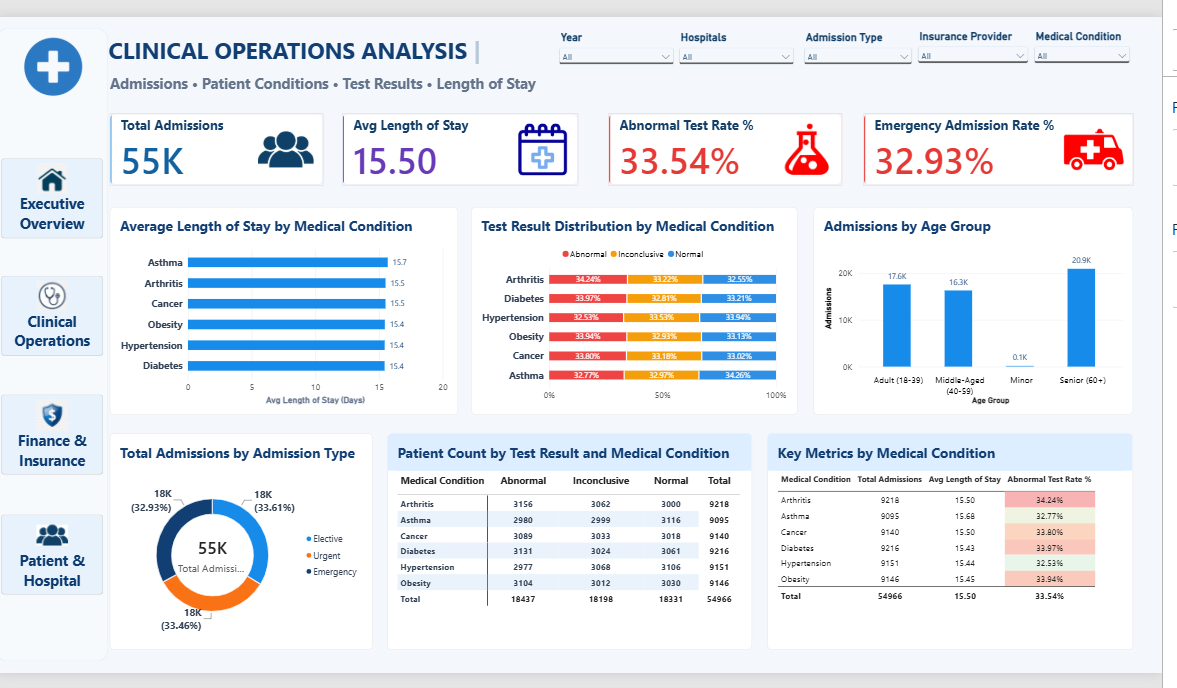

What the dashboard file says about the page in this screenshot:
{"tool":"powerbi","page":{"name":"Clinical Operations","canvas":[1920,1080],"ordinal":1},"visuals":[{"type":"textbox","box":[184.6,29,622.5,54.3],"z":0},{"type":"textbox","box":[186.4,92.3,705.8,41.6],"z":1000},{"type":"clusteredBarChart","title":"Average Length of Stay by Medical Condition","fields":{"Category":["Dim_MedicalCondition.Medical Condition"],"Y":["Fact_Admissions.Avg Length of Stay"]},"box":[186.4,313.1,573.7,342],"z":2000},{"type":"pivotTable","title":"Patient Count by Test Result and Medical Condition","fields":{"Columns":["Fact_Admissions.Test Results"],"Rows":["Dim_MedicalCondition.Medical Condition"],"Values":["Fact_Admissions.Total Admissions"]},"box":[644.2,685.9,600.8,356.5],"z":3000},{"type":"donutChart","title":"Total Admissions by Admission Type","fields":{"Category":["Fact_Admissions.Admission Type"],"Y":["Fact_Admissions.Total Admissions"]},"box":[186.4,685.9,432.5,356.5],"z":4000},{"type":"slicer","fields":{"Values":["Dim_Date.Year"]},"box":[921.1,21.7,199.1,74.2],"z":5000},{"type":"cardVisual","fields":{"Data":["Fact_Admissions.Total Admissions"]},"box":[186.4,159.3,352.9,119.4],"z":6000},{"type":"cardVisual","fields":{"Data":["Fact_Admissions.Avg Length of Stay"]},"box":[570,159.3,389.1,119.4],"z":7000},{"type":"cardVisual","fields":{"Data":["Fact_Admissions.Abnormal Test Rate %"]},"box":[1008,159.3,385.5,119.4],"z":8000},{"type":"cardVisual","fields":{"Data":["Fact_Admissions.Emergency Admission Rate %"]},"box":[1427.8,159.3,445.2,119.4],"z":9000},{"type":"slicer","fields":{"Values":["Fact_Admissions.Admission Type"]},"box":[1324.7,21.7,188.2,56.1],"z":10000},{"type":"slicer","fields":{"Values":["Fact_Admissions.Hospitals"]},"box":[1120.2,21.7,199.1,74.2],"z":11000},{"type":"slicer","fields":{"Values":["Dim_Insurance.Insurance Provider"]},"box":[1512.9,19.9,191.8,57.9],"z":12000},{"type":"slicer","fields":{"Values":["Dim_MedicalCondition.Medical Condition"]},"box":[1704.7,19.9,168.3,57.9],"z":13000},{"type":"hundredPercentStackedBarChart","title":"Test Result Distribution by Medical Condition","fields":{"Category":["Dim_MedicalCondition.Medical Condition"],"Series":["Fact_Admissions.Test Results"],"Y":["Fact_Admissions.Total Admissions"]},"box":[781.8,313.1,537.5,342],"z":14000},{"type":"clusteredColumnChart","title":"Admissions by Age Group","fields":{"Category":["Fact_Admissions.   AgeGroup"],"Y":["Fact_Admissions.Total Admissions"]},"box":[1346.4,313.1,526.6,342],"z":15000},{"type":"tableEx","title":"Key Metrics by Medical Condition","fields":{"Values":["Dim_MedicalCondition.Medical Condition","Fact_Admissions.Total Admissions","Fact_Admissions.Avg Length of Stay","Fact_Admissions.Abnormal Test Rate %"]},"box":[1270.4,685.9,602.6,356.5],"z":16000},{"type":"shape","box":[0,18.1,184.6,1042.4],"z":17000},{"type":"actionButton","box":[9,233.4,168.3,132.1],"z":18000},{"type":"actionButton","box":[9,427.1,168.3,132.1],"z":19000},{"type":"actionButton","box":[9,620.7,168.3,132.1],"z":20000},{"type":"image","box":[23.5,25.3,143,114],"z":21000},{"type":"actionButton","box":[7.2,819.8,168.3,132.1],"z":21001}]}

Visuals, with their boxes on the page's 1920x1080 design canvas (x1, y1, x2, y2). These are canvas units, not pixel positions in the 1177x688 screenshot, which may show the page scaled, cropped or inside an application window:
textbox: (185,29,807,83)
textbox: (186,92,892,134)
"Average Length of Stay by Medical Condition" clusteredBarChart: (186,313,760,655)
"Patient Count by Test Result and Medical Condition" pivotTable: (644,686,1245,1042)
"Total Admissions by Admission Type" donutChart: (186,686,619,1042)
slicer - Dim_Date.Year: (921,22,1120,96)
cardVisual - Fact_Admissions.Total Admissions: (186,159,539,279)
cardVisual - Fact_Admissions.Avg Length of Stay: (570,159,959,279)
cardVisual - Fact_Admissions.Abnormal Test Rate %: (1008,159,1394,279)
cardVisual - Fact_Admissions.Emergency Admission Rate %: (1428,159,1873,279)
slicer - Fact_Admissions.Admission Type: (1325,22,1513,78)
slicer - Fact_Admissions.Hospitals: (1120,22,1319,96)
slicer - Dim_Insurance.Insurance Provider: (1513,20,1705,78)
slicer - Dim_MedicalCondition.Medical Condition: (1705,20,1873,78)
"Test Result Distribution by Medical Condition" hundredPercentStackedBarChart: (782,313,1319,655)
"Admissions by Age Group" clusteredColumnChart: (1346,313,1873,655)
"Key Metrics by Medical Condition" tableEx: (1270,686,1873,1042)
shape: (0,18,185,1060)
actionButton: (9,233,177,366)
actionButton: (9,427,177,559)
actionButton: (9,621,177,753)
image: (24,25,166,139)
actionButton: (7,820,176,952)
